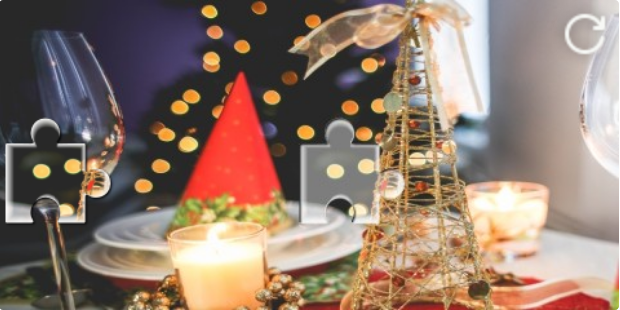target: (300, 118, 403, 225)
